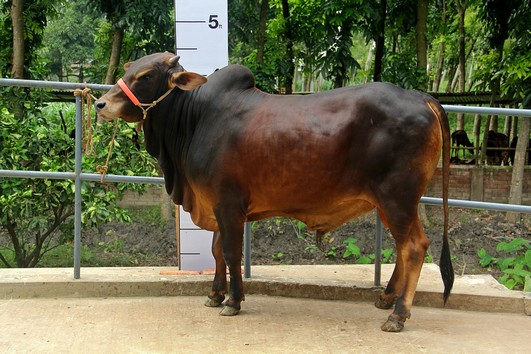cow: (91, 39, 466, 338)
